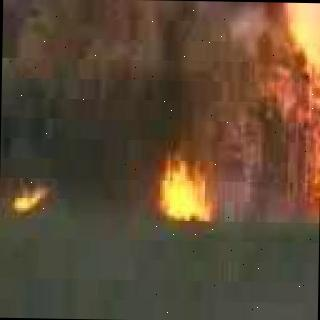fire: (279, 76, 320, 223), (163, 160, 216, 226), (11, 179, 50, 219)
